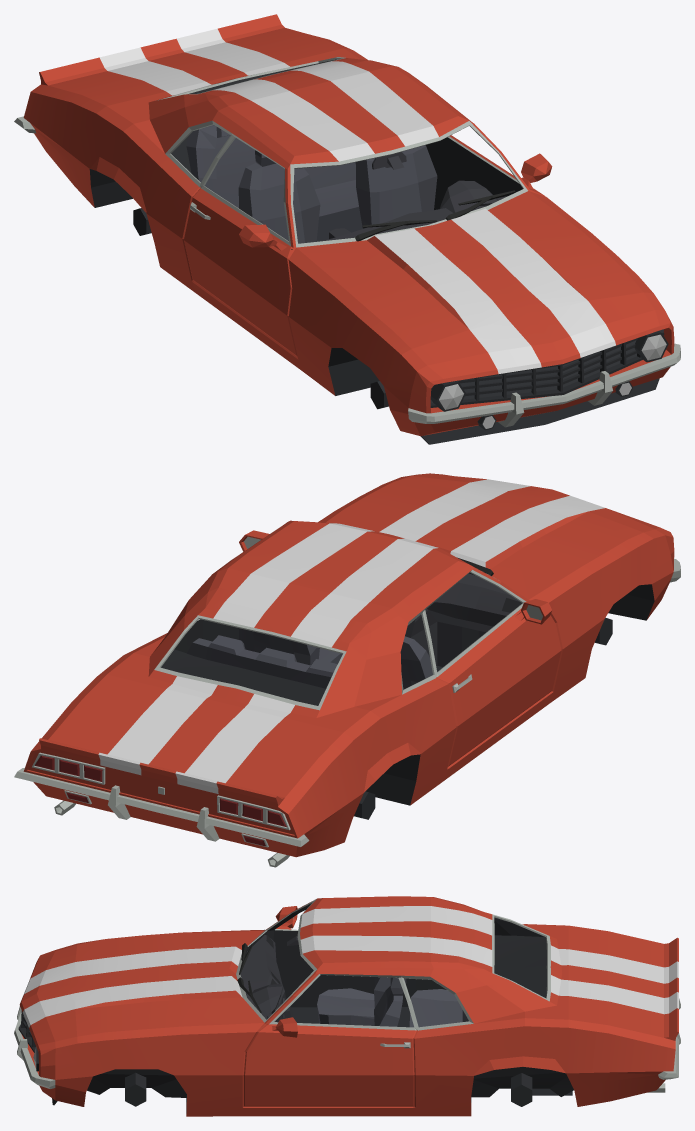
The model's file is SM_Veh_Car_Muscle_01.obj.
The picture shows the model from 3 angles, top to bottom: view 1: azimuth 30°, elevation 25°; view 2: azimuth 150°, elevation 25°; view 3: azimuth 270°, elevation 25°; orthographic projection. The views are drawn at different scales.
Visible parts, largest first — view 1: SM_Veh_Car_Muscle_01_0; view 2: SM_Veh_Car_Muscle_01_0; view 3: SM_Veh_Car_Muscle_01_0.
Boxes of the visible parts, x1,y1,x2,y2 form: SM_Veh_Car_Muscle_01_0: (14,14,680,444); SM_Veh_Car_Muscle_01_0: (14,473,680,867); SM_Veh_Car_Muscle_01_0: (14,896,680,1116).
Bounding box in the file's own units: 2.43 × 1.31 × 5.64.
Materials: 1 (1 with a texture image).
